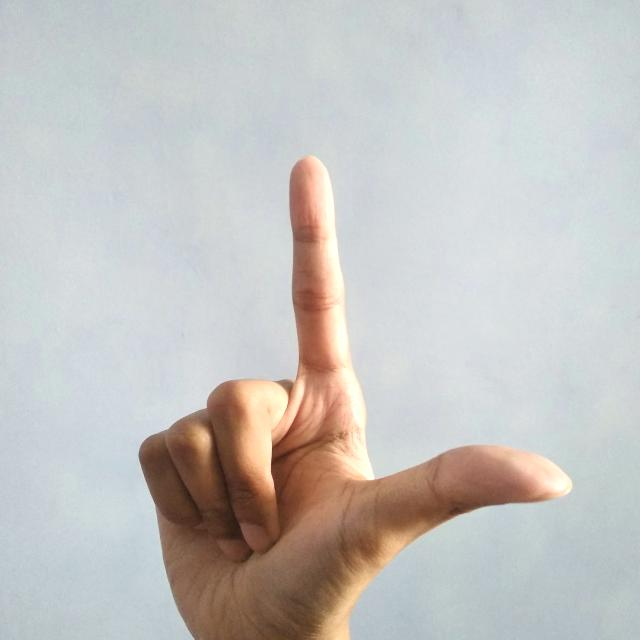L: (133, 150, 577, 630)
